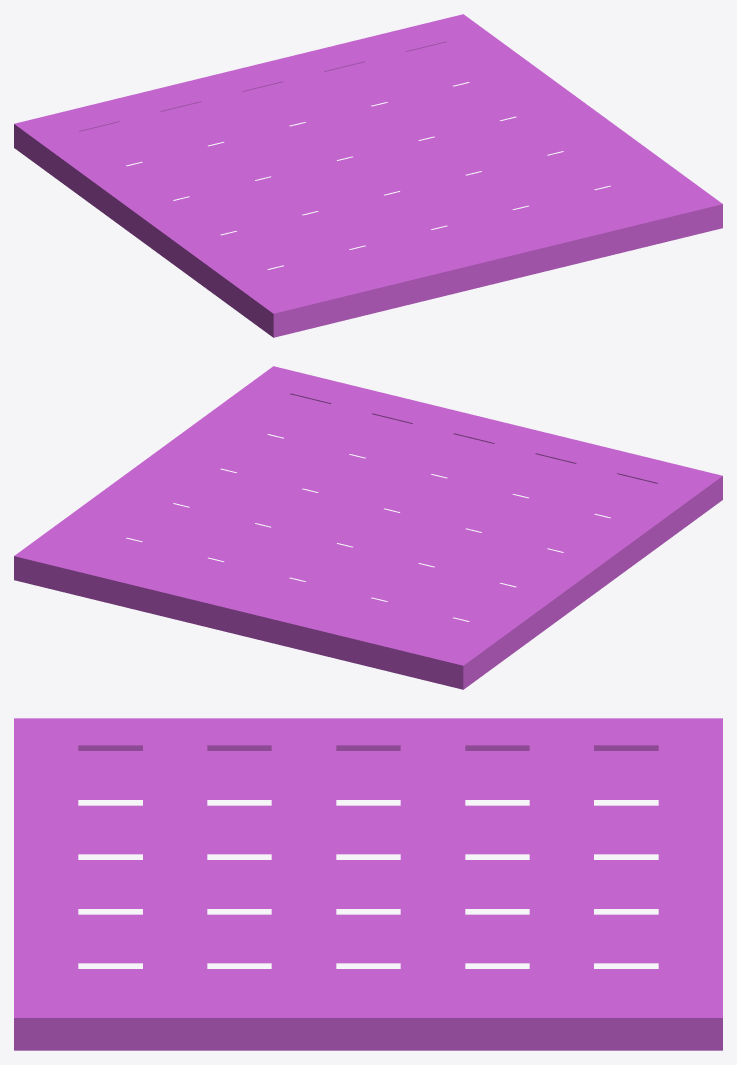
The model's file is F_Krata.fbx.
3 renders of one model, top to bottom at view 1: azimuth 30°, elevation 25°; view 2: azimuth 150°, elevation 25°; view 3: azimuth 270°, elevation 25°, orthographic. The views are drawn at different scales.
Visible parts, largest first — view 1: F_krata; view 2: F_krata; view 3: F_krata.
Boxes of the visible parts, x1,y1,x2,y2 form: F_krata: (14, 14, 722, 337); F_krata: (14, 366, 722, 689); F_krata: (14, 718, 722, 1050).
Bounding box in the file's own units: 70.82 × 3.62 × 70.82.
